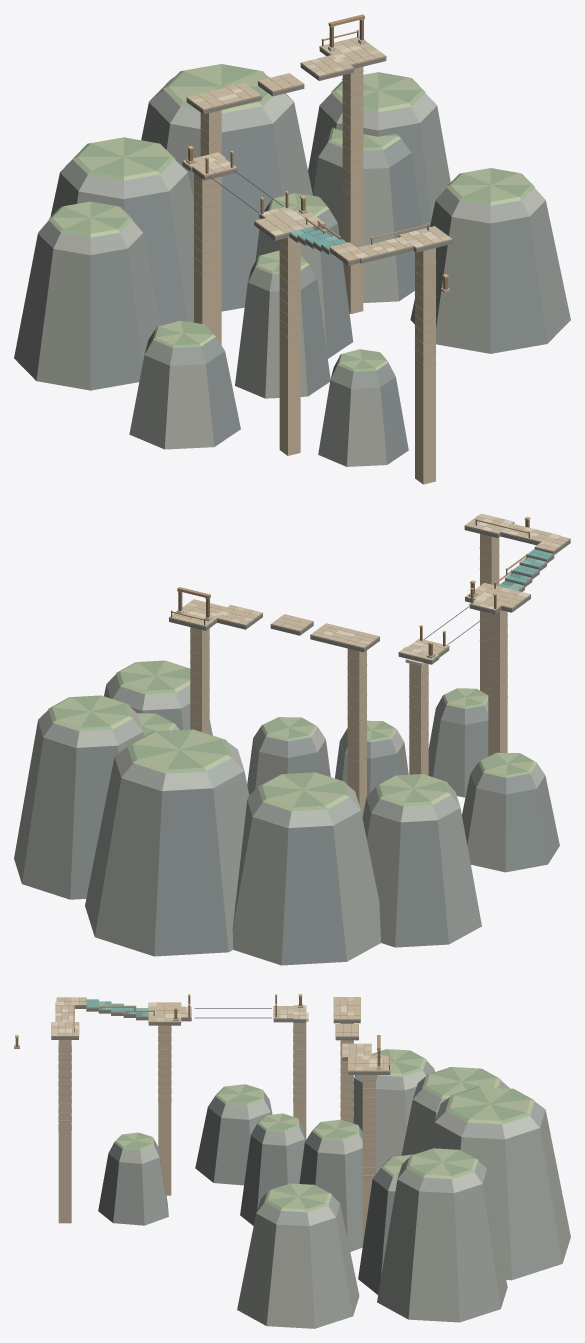
Rendered from NorthRavineWorks.glb.
3 views of the same model, one above another, from view 1: azimuth 30°, elevation 25°; view 2: azimuth 150°, elevation 25°; view 3: azimuth 270°, elevation 25° (orthographic). The views are drawn at different scales.
Parts seen in each view (by area): view 1: NorthRavineWorks; view 2: NorthRavineWorks; view 3: NorthRavineWorks.
Part boxes in pixels (<box>): NorthRavineWorks: <box>14,14,570,484</box>; NorthRavineWorks: <box>14,513,570,965</box>; NorthRavineWorks: <box>14,994,570,1328</box>.
Size of the model in its own units: 44.66 by 25.93 by 58.01.
